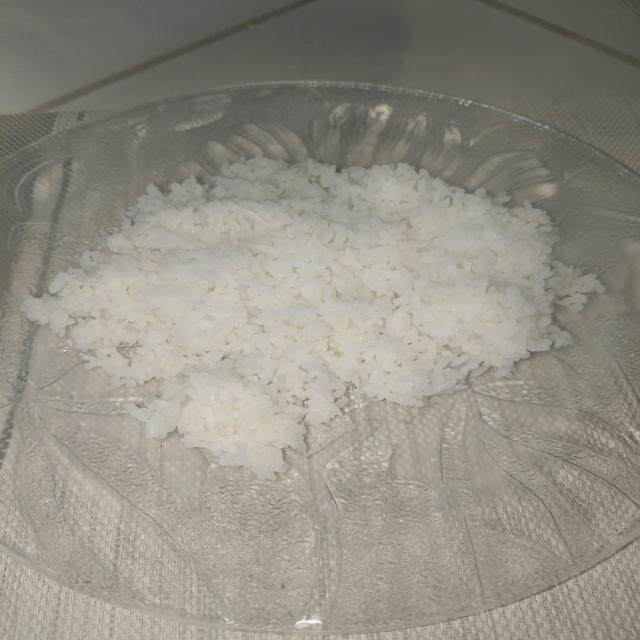Chicken -Chicken Inasal-: (135, 142, 524, 446)
